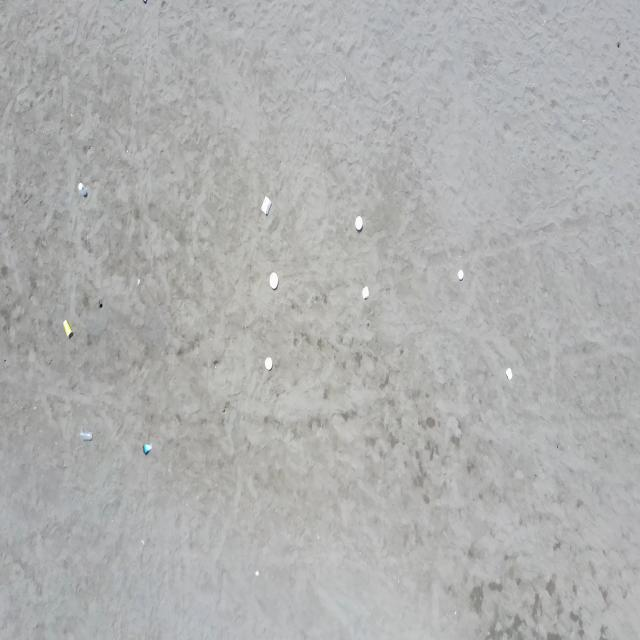take-away-containers: (260, 196, 272, 216), (264, 356, 274, 371), (270, 272, 278, 290), (355, 215, 363, 231), (362, 286, 370, 299), (506, 368, 513, 380), (458, 270, 463, 280)
takeaway-cup: (63, 320, 73, 338), (81, 428, 92, 442), (78, 181, 88, 196), (143, 443, 152, 454)
